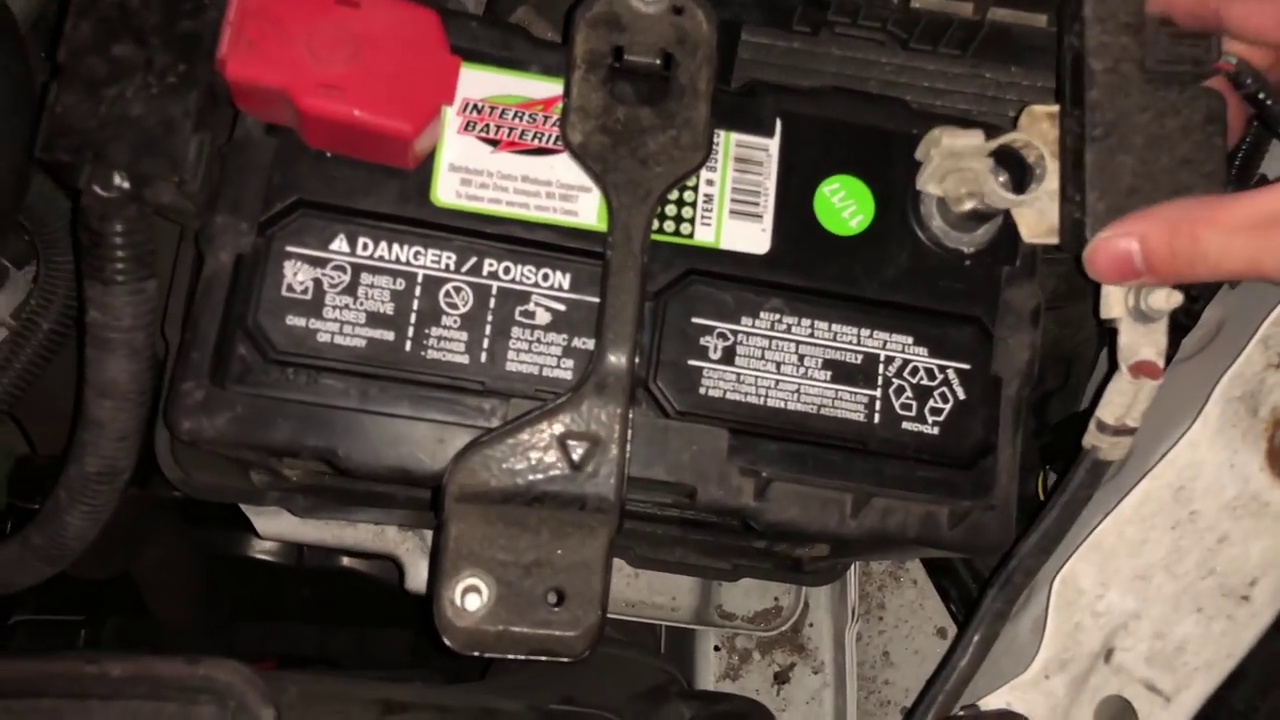battery: (232, 18, 1038, 498)
neg_disconnected: (916, 76, 1046, 280)
pos_connected: (214, 4, 466, 164)
